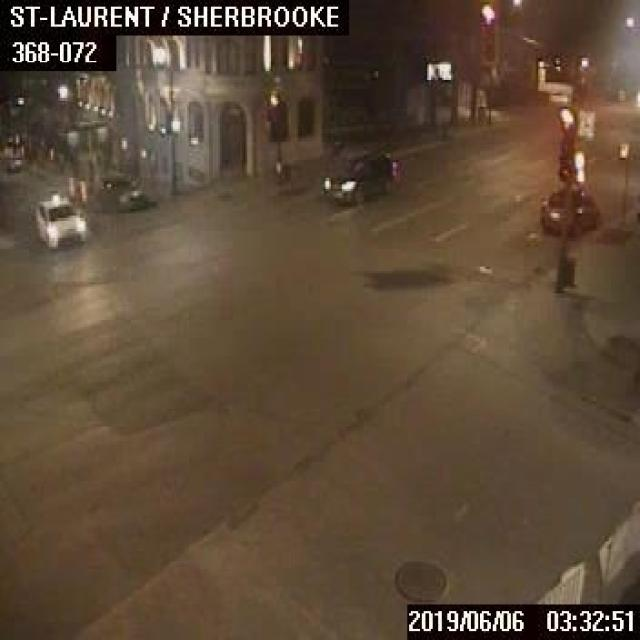vehicle: (318, 151, 398, 203), (536, 182, 596, 234), (33, 193, 86, 249), (98, 173, 145, 209)
